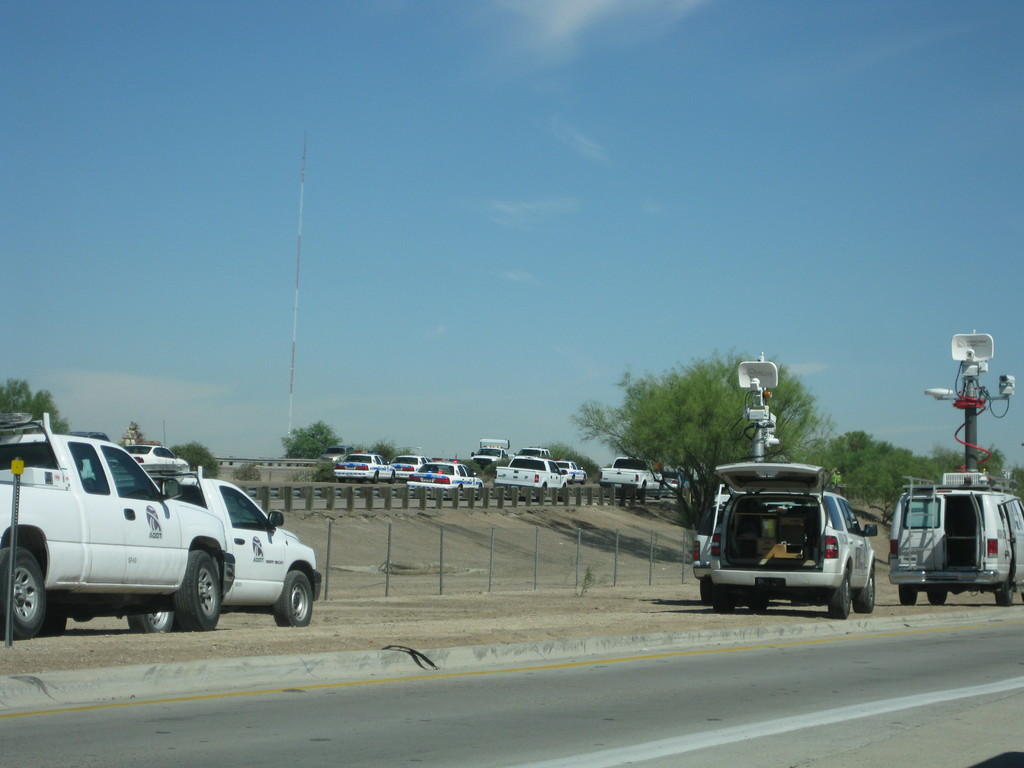mobil: (1, 431, 229, 619), (405, 458, 482, 495), (338, 451, 400, 487)
